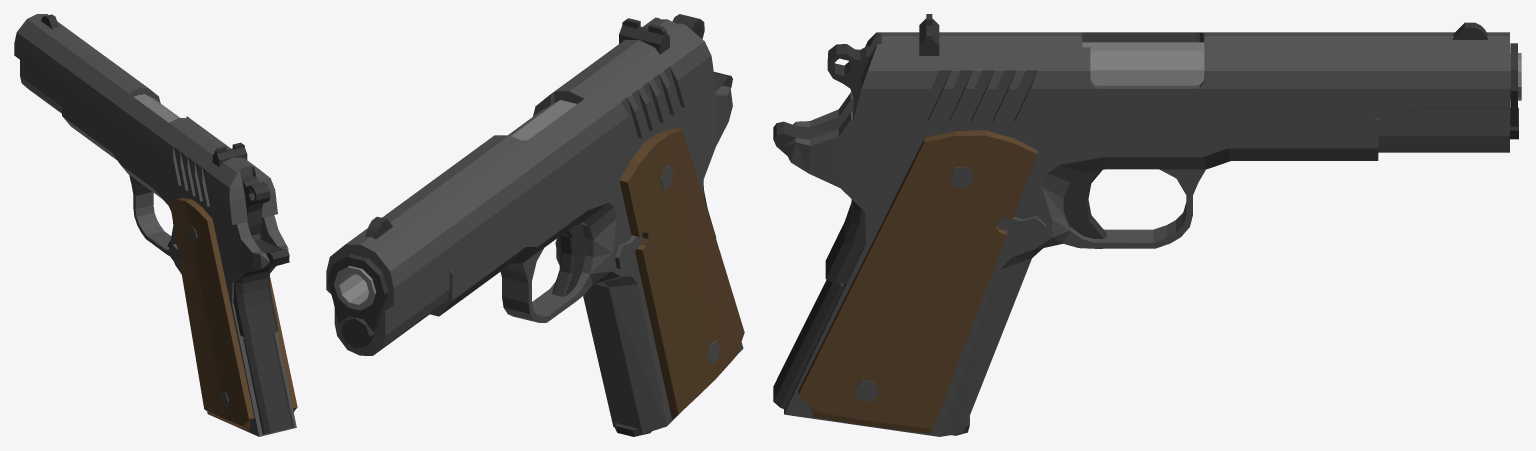
The picture shows the model from 3 angles, left to right: view 1: azimuth 30°, elevation 25°; view 2: azimuth 150°, elevation 25°; view 3: azimuth 270°, elevation 25°; orthographic projection. The views are drawn at different scales.
Parts seen in each view (by area): view 1: M1911, Slide, Hammer; view 2: M1911, Slide, Trigger, Hammer; view 3: M1911, Slide, Trigger, Hammer.
Boxes of the visible parts, bbox=[...] form: M1911: bbox=[62, 94, 297, 436]; Slide: bbox=[14, 14, 277, 224]; Hammer: bbox=[241, 175, 270, 235]; M1911: bbox=[334, 72, 744, 434]; Slide: bbox=[326, 17, 715, 355]; Trigger: bbox=[552, 223, 585, 296]; Hammer: bbox=[672, 14, 704, 38]; M1911: bbox=[773, 42, 1521, 436]; Slide: bbox=[853, 14, 1518, 152]; Trigger: bbox=[1063, 170, 1106, 238]; Hammer: bbox=[827, 44, 875, 106].
Size of the model in its own units: 32.52 by 158 by 264.
